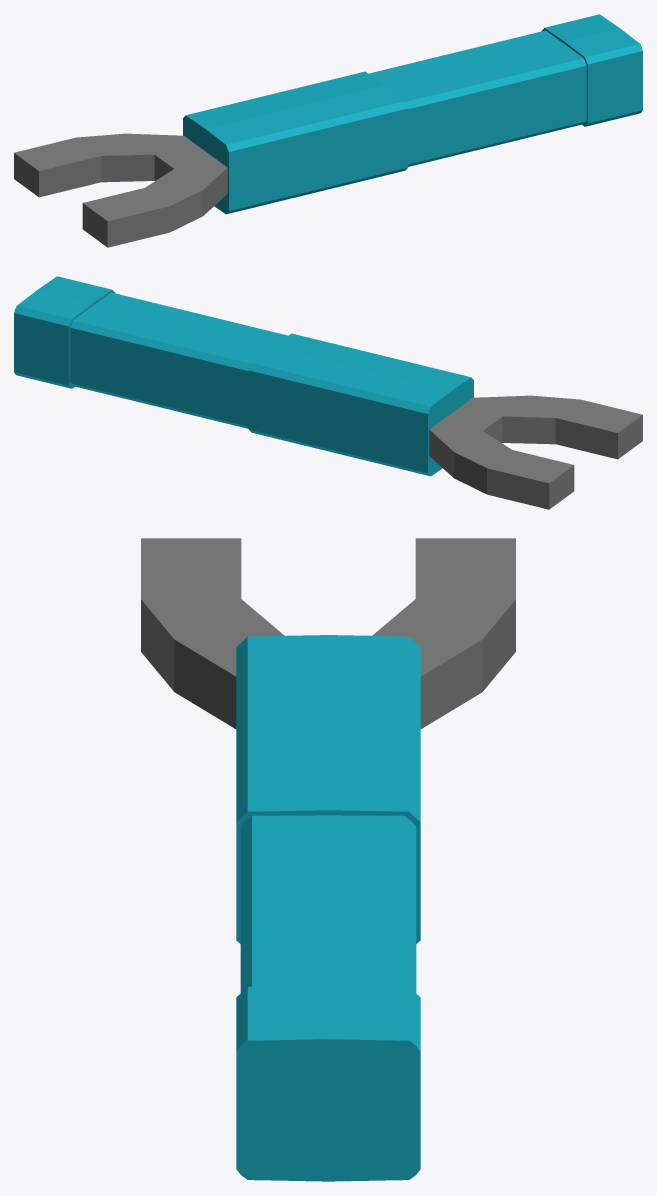
File: wrench2.glb
The picture shows the model from 3 angles, top to bottom: view 1: azimuth 30°, elevation 25°; view 2: azimuth 150°, elevation 25°; view 3: azimuth 270°, elevation 25°; orthographic projection. The views are drawn at different scales.
Visible parts, largest first — view 1: Plane; view 2: Plane; view 3: Plane.
Part boxes in pixels (left/top/right/bottom): Plane: left=14, top=14, right=642, bottom=247; Plane: left=14, top=276, right=642, bottom=509; Plane: left=141, top=538, right=515, bottom=1181.
Size of the model in its own units: 2.7 by 0.3286 by 0.7846.
Materials: 1 (1 with a texture image).
